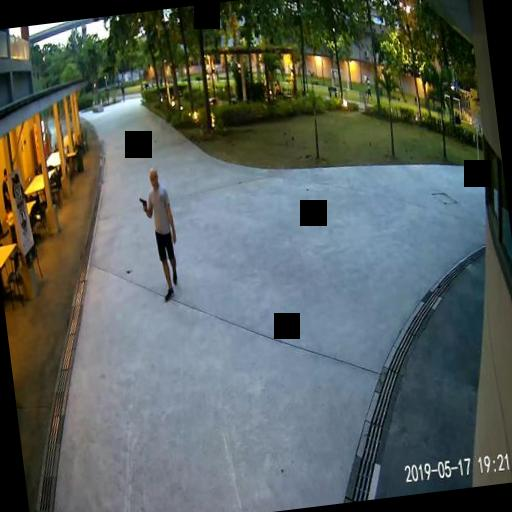Handgun: (138, 195, 147, 212)
